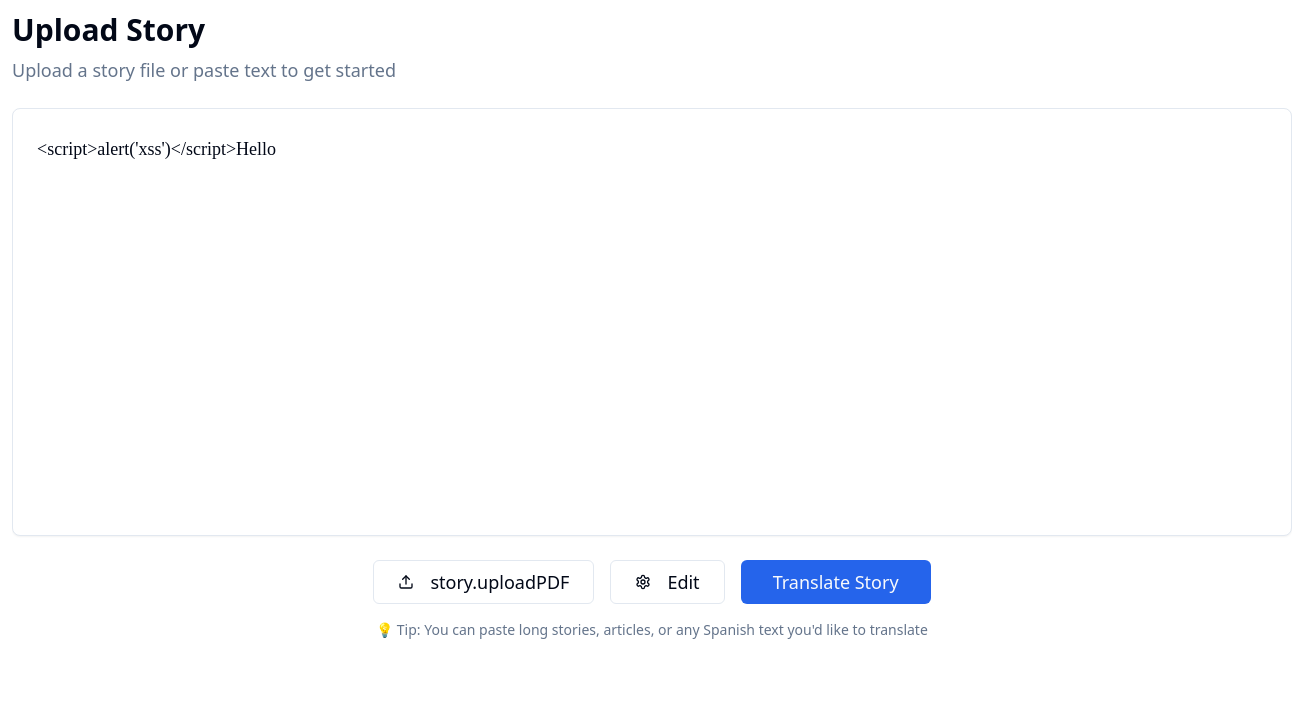
Test case: FullPageStoryInput Security Features › XSS Prevention › should prevent translation when malicious content is detected
Click the button with test id "translate-button" at point(836, 582), box [741,560,931,604]
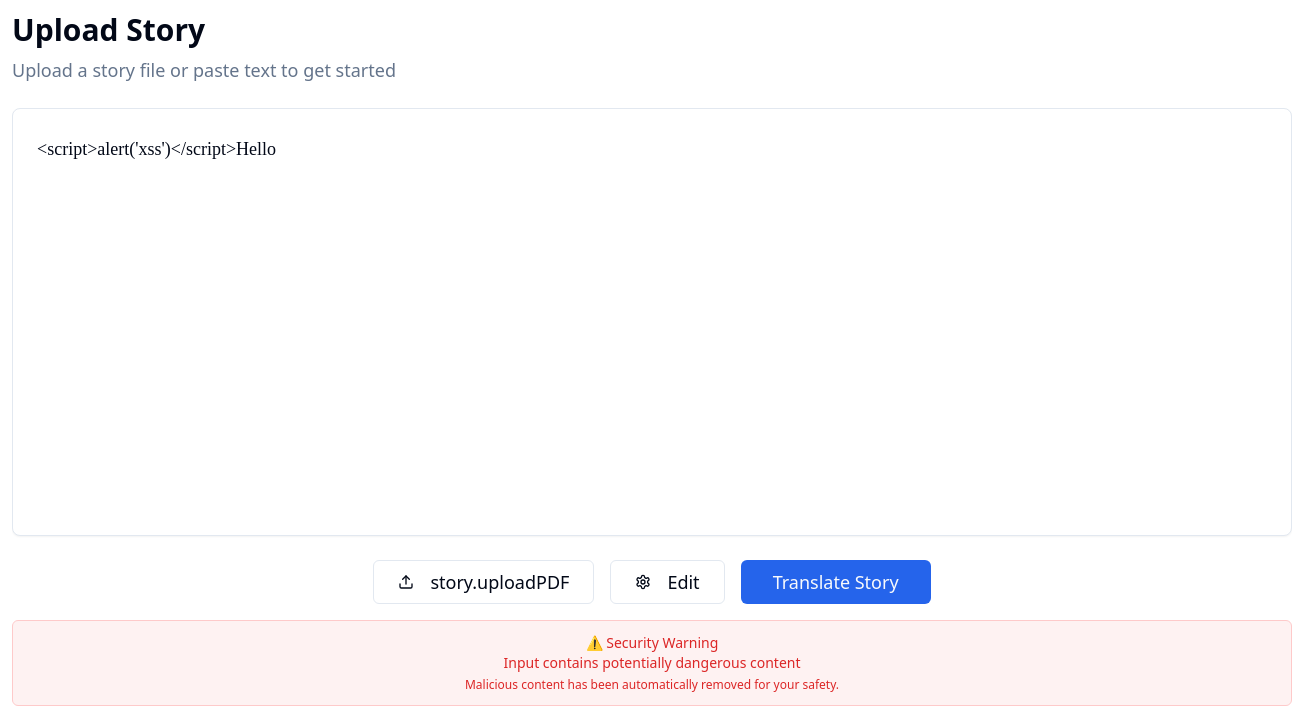
Expected: the text "⚠️ Security Warning" is shown, [586,633,718,652]
